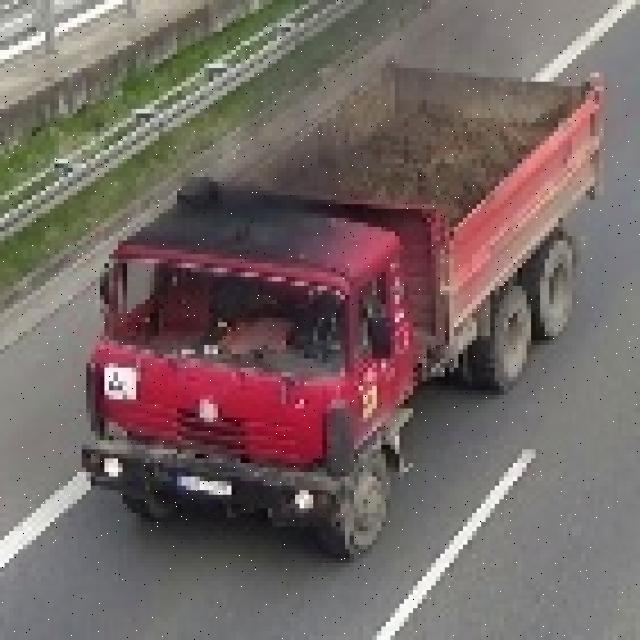truck: (86, 54, 613, 558)
